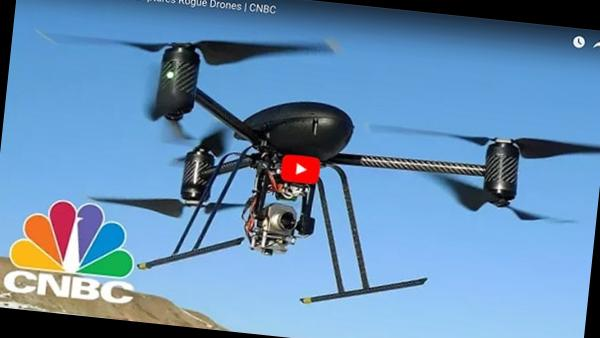drone: (81, 19, 600, 296)
